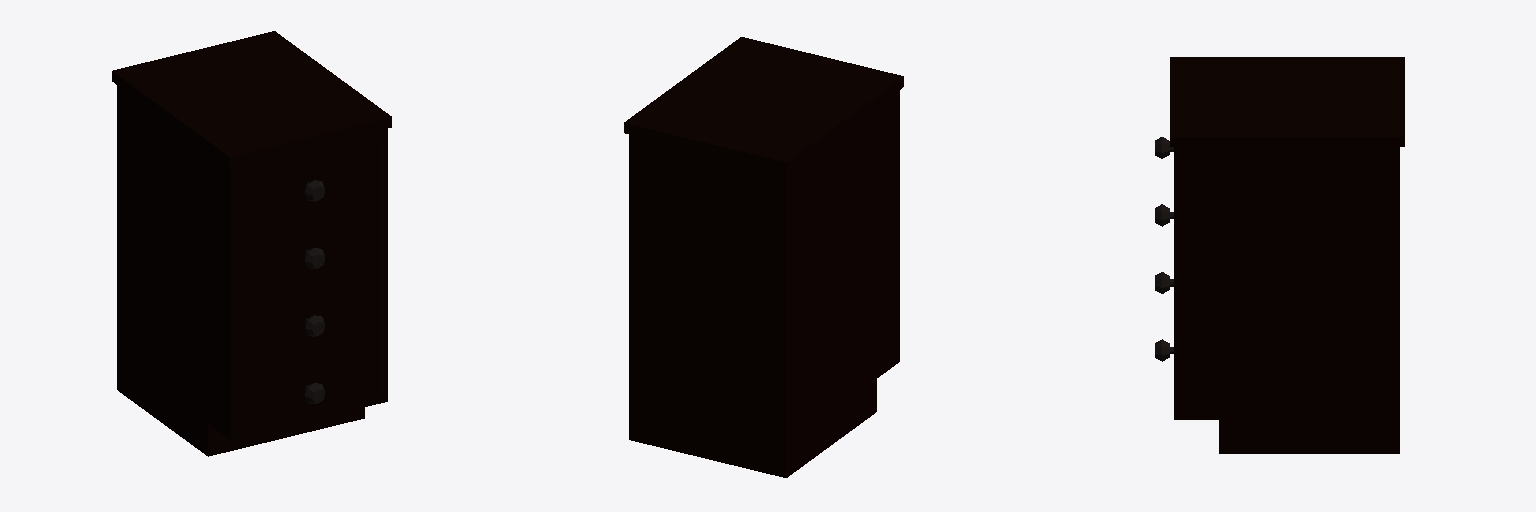
Rendered from DrawersBaseCabinet1.obj.
3 renders of one model, left to right at view 1: azimuth 30°, elevation 25°; view 2: azimuth 150°, elevation 25°; view 3: azimuth 270°, elevation 25°, orthographic.
Parts seen in each view (by area): view 1: DrawersBaseCabinet_Cube.002, Drawer2DrawersBaseCabinet_Cube.009, Drawer3DrawersBaseCabinet_Cube.010, Drawer1DrawersBaseCabinet_Cube.008, Drawer4DrawersBaseCabinet_Cube.011; view 2: DrawersBaseCabinet_Cube.002; view 3: DrawersBaseCabinet_Cube.002.
Boxes of the visible parts, x1,y1,x2,y2 form: DrawersBaseCabinet_Cube.002: [112, 31, 391, 456]; Drawer2DrawersBaseCabinet_Cube.009: [240, 205, 376, 300]; Drawer3DrawersBaseCabinet_Cube.010: [240, 273, 376, 368]; Drawer1DrawersBaseCabinet_Cube.008: [240, 139, 376, 233]; Drawer4DrawersBaseCabinet_Cube.011: [240, 341, 376, 426]; DrawersBaseCabinet_Cube.002: [624, 37, 903, 477]; DrawersBaseCabinet_Cube.002: [1170, 57, 1404, 453].
Bounding box in the file's own units: 0.4863 × 0.9081 × 0.6482.